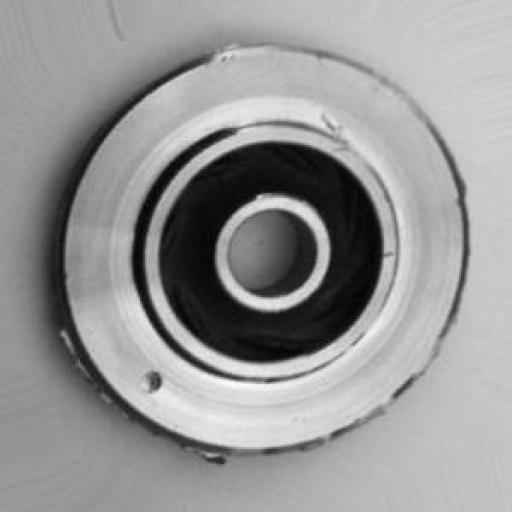defect: (28, 21, 488, 484), (116, 349, 180, 416)
